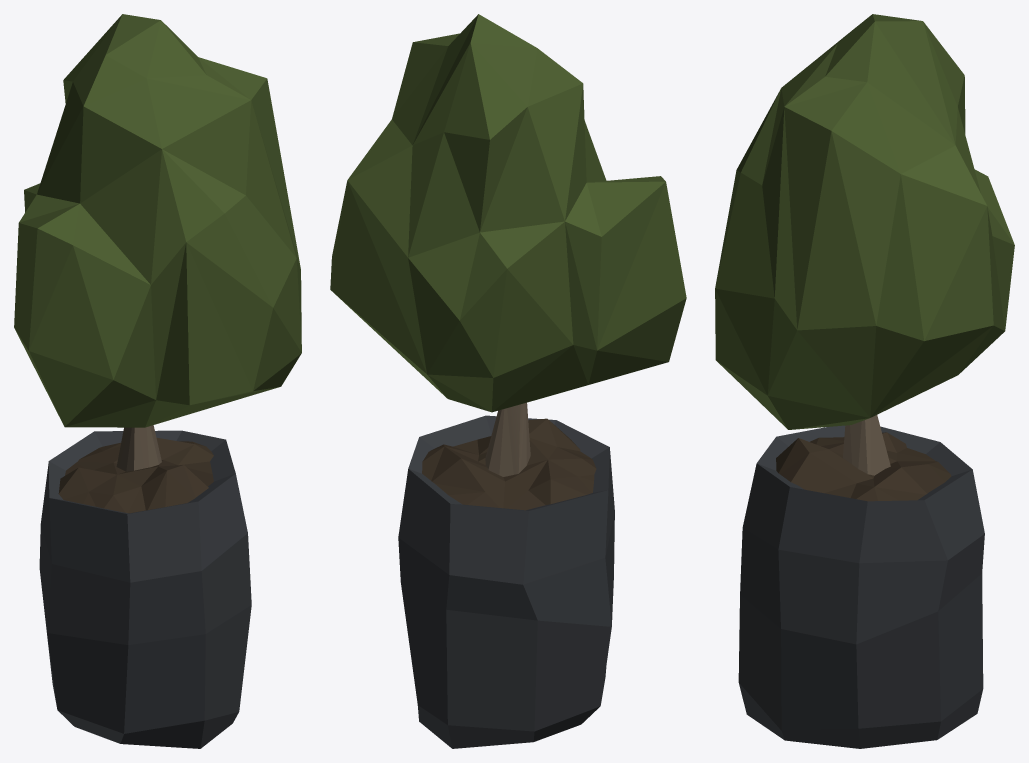
The model's file is SM_Prop_Plant_01.fbx.
3 views of the same model, side by side, from view 1: azimuth 30°, elevation 25°; view 2: azimuth 150°, elevation 25°; view 3: azimuth 270°, elevation 25° (orthographic). The views are drawn at different scales.
Visible parts, largest first — view 1: SM_Prop_Plant_01; view 2: SM_Prop_Plant_01; view 3: SM_Prop_Plant_01.
Boxes of the visible parts, bbox=[...] form: SM_Prop_Plant_01: bbox=[14, 14, 301, 748]; SM_Prop_Plant_01: bbox=[330, 14, 686, 748]; SM_Prop_Plant_01: bbox=[715, 14, 1014, 748].
Size of the model in its own units: 38.25 by 86.13 by 33.21.
